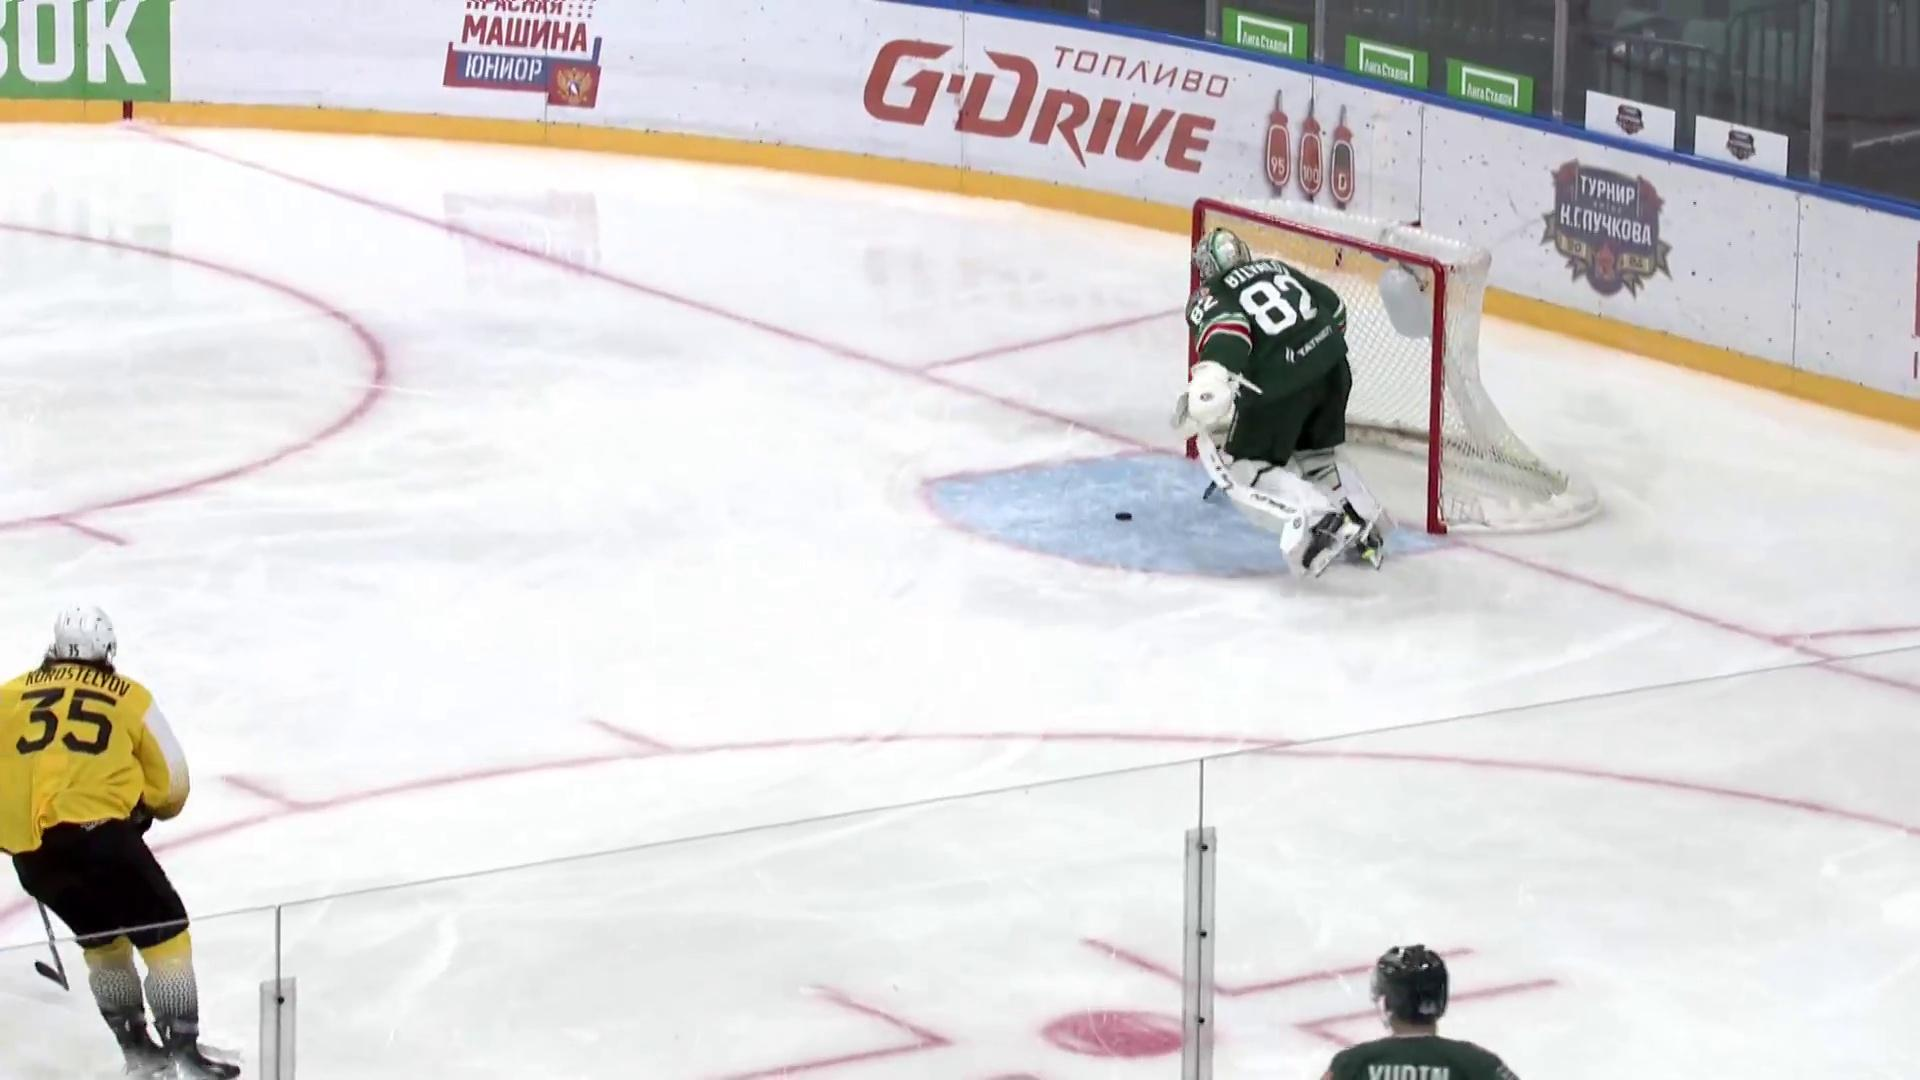ball: (1113, 510, 1134, 524)
